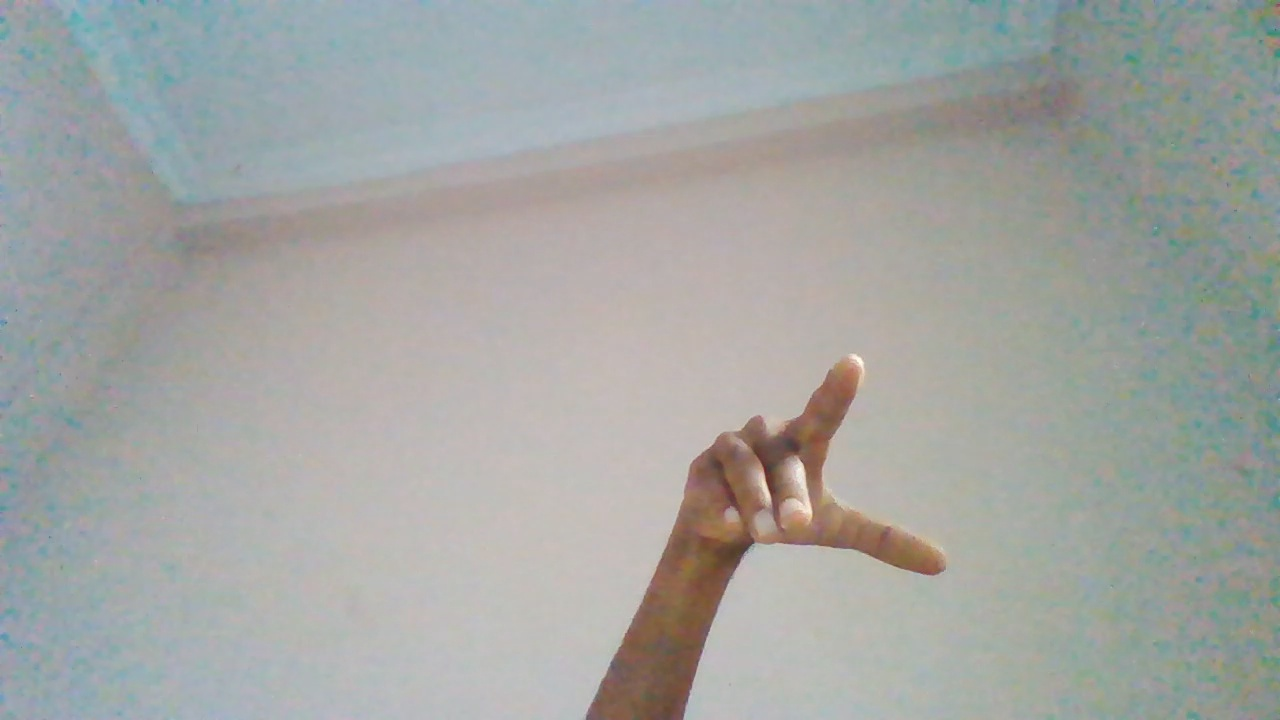ke: (662, 354, 943, 716)
